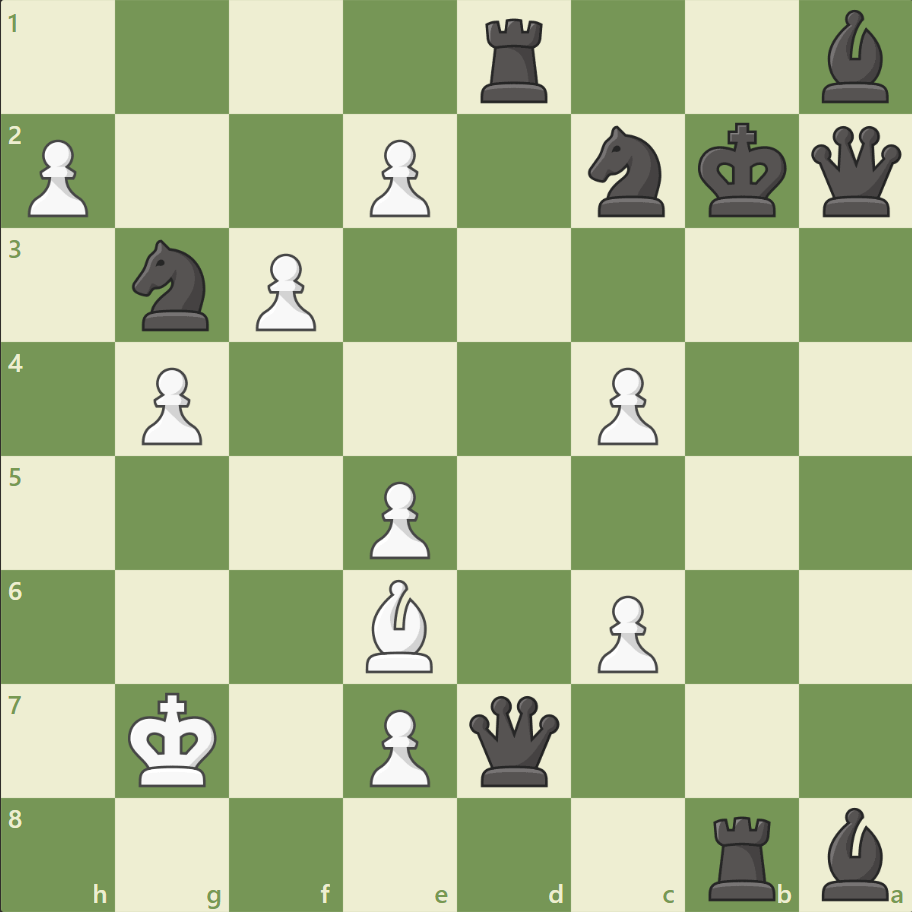B: (358, 574, 442, 676)
K: (124, 685, 224, 793)
P: (133, 359, 208, 450), (247, 246, 322, 337), (20, 132, 95, 223), (361, 700, 435, 791), (588, 586, 662, 677), (361, 473, 435, 564), (588, 359, 662, 450), (361, 132, 435, 223)
b: (812, 801, 896, 904), (812, 6, 896, 109)
k: (692, 117, 792, 225)
n: (124, 234, 222, 337), (579, 121, 676, 223)
q: (805, 122, 904, 222), (464, 690, 563, 789)
r: (700, 806, 783, 904), (473, 12, 556, 109)
